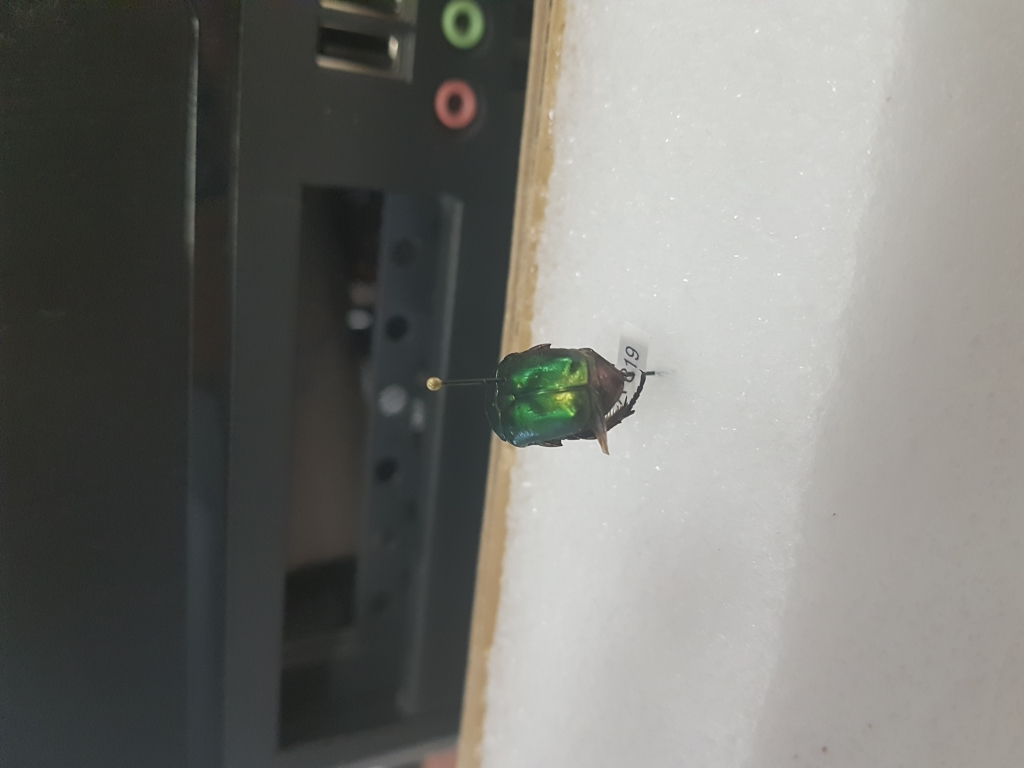Protaetia_cuprea_ignicollis: (477, 338, 649, 453)
